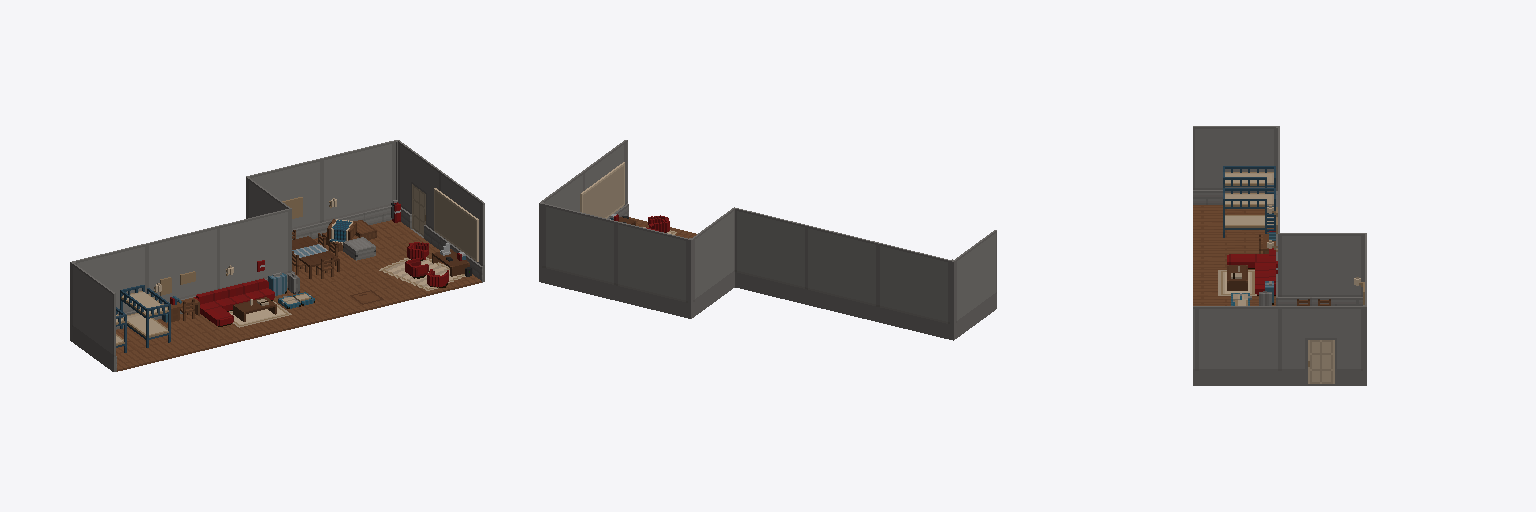
3 views of the same model, side by side, from view 1: azimuth 30°, elevation 25°; view 2: azimuth 150°, elevation 25°; view 3: azimuth 270°, elevation 25° (orthographic).
Parts seen in each view (by area): view 1: object 1; view 2: object 1; view 3: object 1.
Boxes of the visible parts, x1=… form: object 1: x1=70, y1=140, x2=484, y2=371; object 1: x1=539, y1=140, x2=996, y2=340; object 1: x1=1193, y1=126, x2=1366, y2=385.
Size of the model in its own units: 20.2 by 4.1 by 8.2.
1 materials, 1 textured.